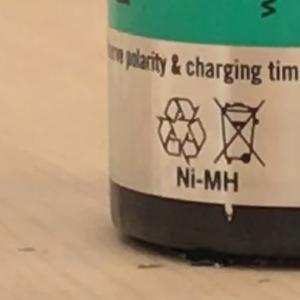NI-MH: (167, 161, 248, 198)
